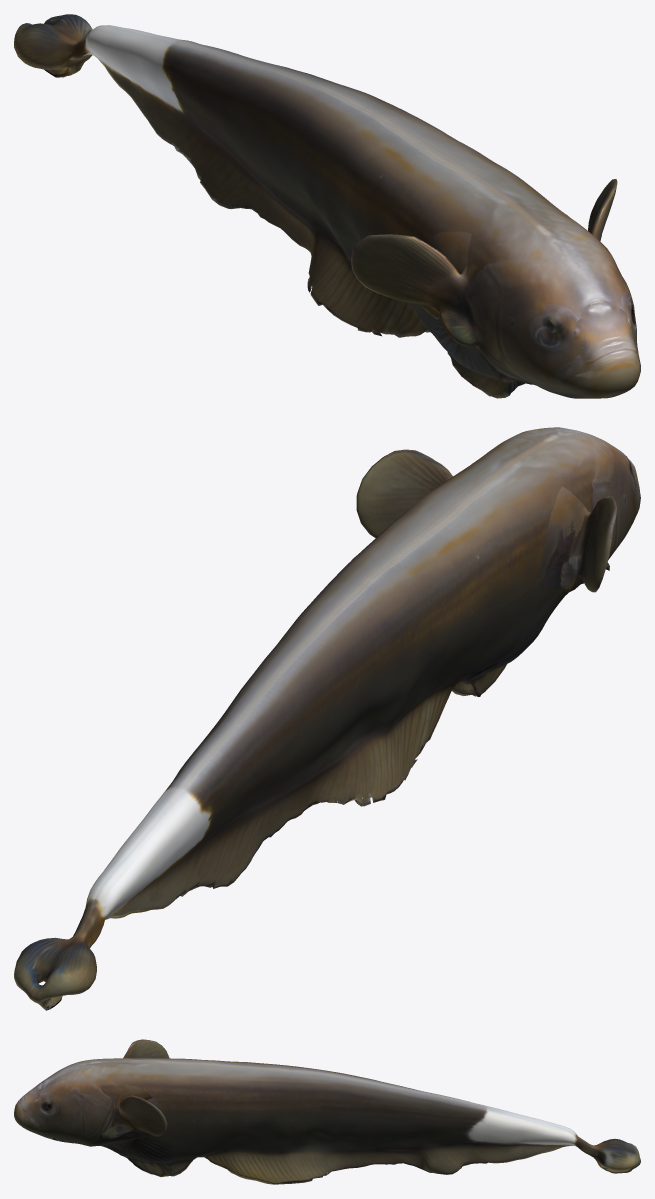
Rendered from Black_Ghost__0604060117_texture.glb.
3 views of the same model, one above another, from view 1: azimuth 30°, elevation 25°; view 2: azimuth 150°, elevation 25°; view 3: azimuth 270°, elevation 25° (orthographic). The views are drawn at different scales.
Size of the model in its own units: 0.4953 by 0.4077 by 1.99.
1 material, 1 textured.
